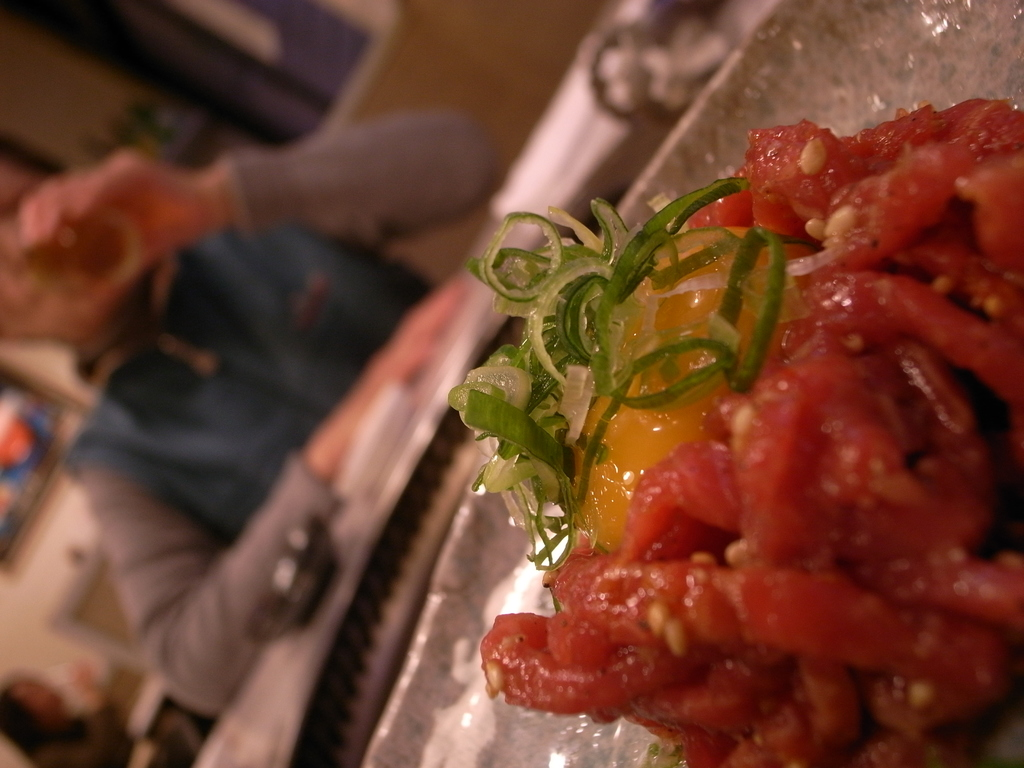Tomato: (474, 95, 1023, 767)
